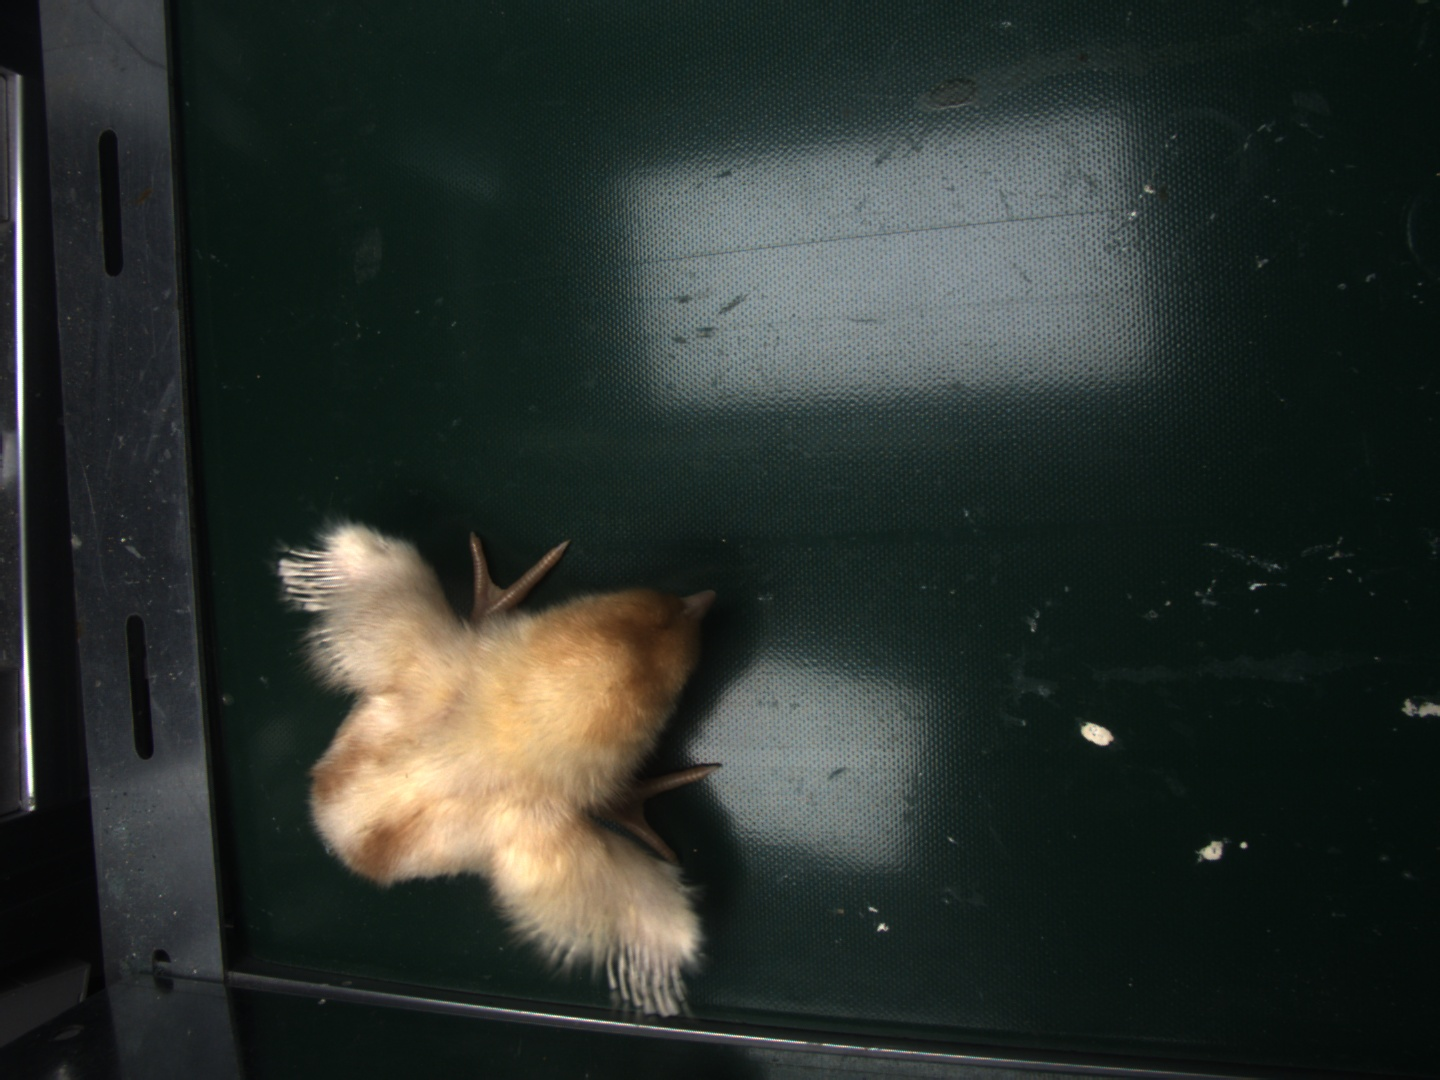female: (607, 937, 685, 1004), (280, 541, 344, 613)
